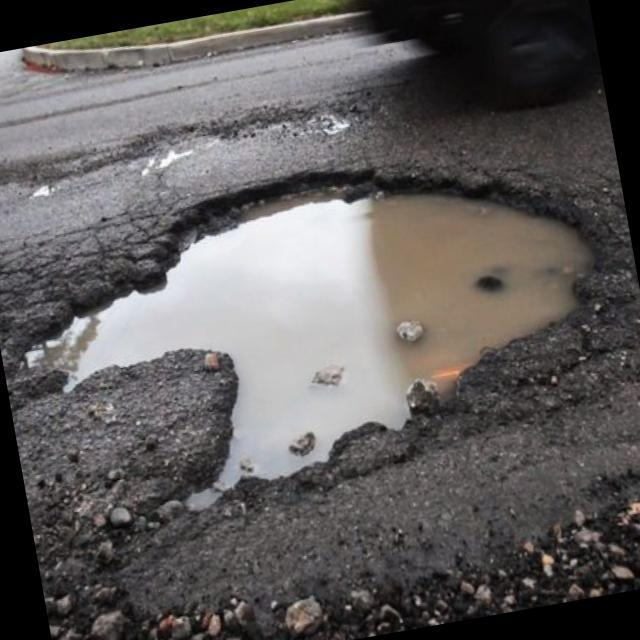Pothole: (0, 112, 639, 499)
